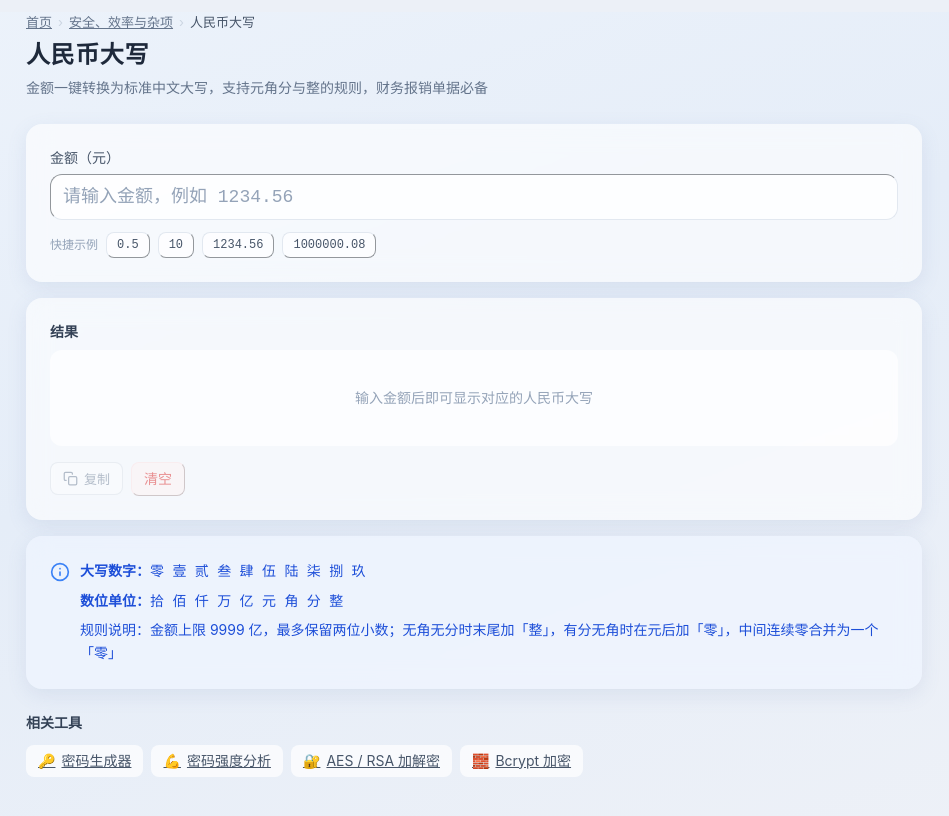
RmbUppercase 组件测试 › 负数输入显示行内错误
In the field labelled "金额（元）": {"x": 474, "y": 197} x1=50 y1=174 x2=898 y2=220, type "-5"
Wait 300 ms
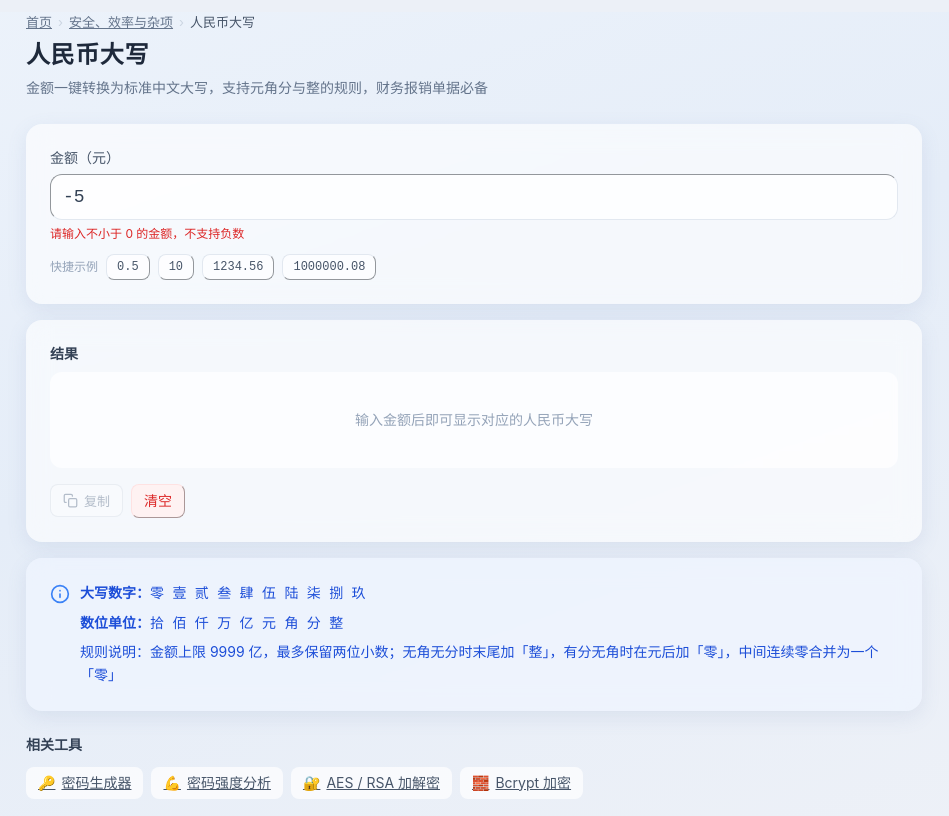
Result: the text "负" is shown at x1=50 y1=226 x2=244 y2=241
